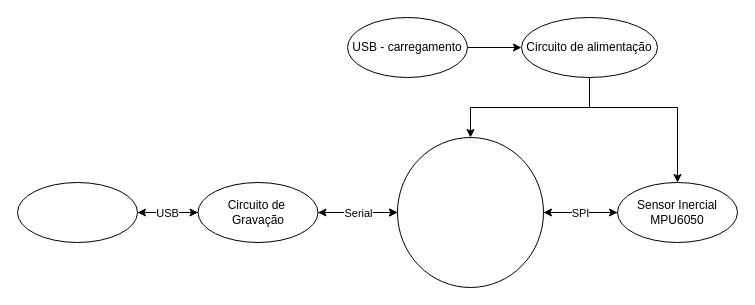
Image size: 755x305. Some labels were removed from this diagram. The shapes that lost their labels are listed below. From the top down, each one's centre as x and y in pixels, then its label:
At point (77, 212): "PC".
At point (470, 212): "Unidade de processamento ESP32-WROOM".
